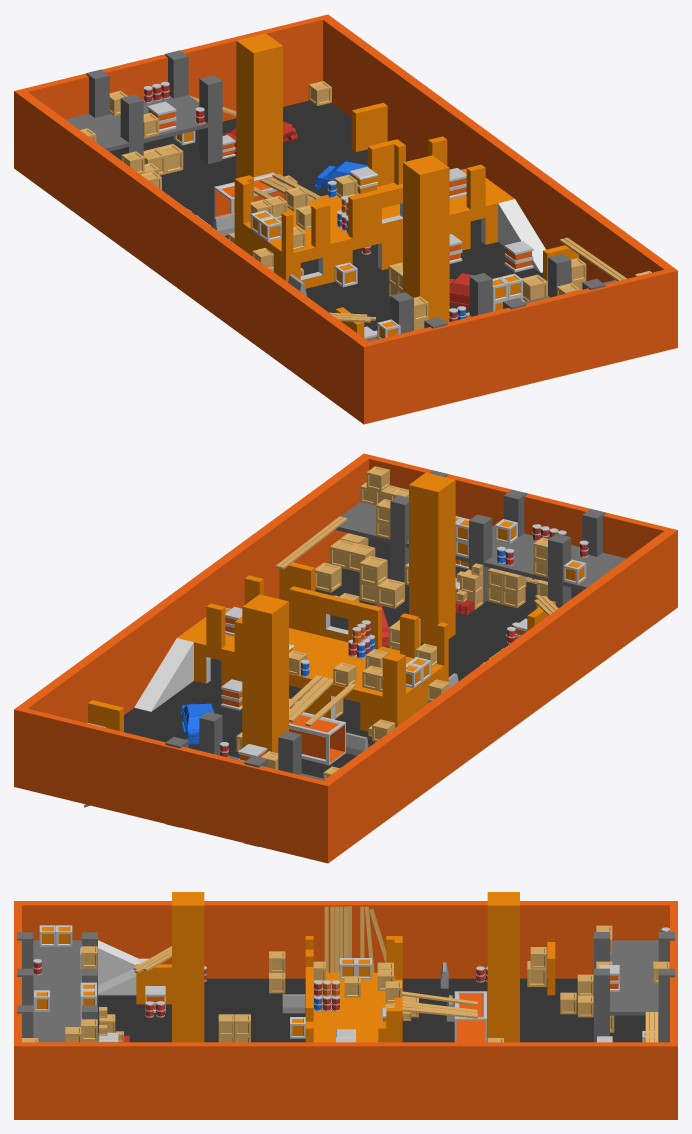
The model's file is map_visual.glb.
3 renders of one model, top to bottom at view 1: azimuth 30°, elevation 25°; view 2: azimuth 150°, elevation 25°; view 3: azimuth 270°, elevation 25°, orthographic. The views are drawn at different scales.
Parts seen in each view (by area): view 1: floors, room, Plane, Cube.016, obj.048, obj.049, Cube.077, Cube.001, obj.004, Cube.005, BigBox.004, Cube.006 (+1 smaller); view 2: floors, room, Plane, Cube.077, obj.048, obj.049, Cube.016, Cube.002, Cube.005, obj.002, obj.004, Cube.035 (+3 smaller); view 3: floors, Plane, Cube.016, Cube.077, room, obj.048, obj.049, up2, Cube.005, Cube.030, obj.024, Cube.023 (+19 smaller).
Part boxes in pixels (x1=…): floors: x1=14, y1=14, x2=677, y2=424; room: x1=234, y1=136, x2=514, y2=288; Plane: x1=110, y1=100, x2=542, y2=330; Cube.016: x1=65, y1=50, x2=222, y2=164; obj.048: x1=403, y1=155, x2=449, y2=321; obj.049: x1=236, y1=33, x2=282, y2=178; Cube.077: x1=367, y1=253, x2=616, y2=341; Cube.001: x1=498, y1=199, x2=545, y2=272; obj.004: x1=351, y1=102, x2=387, y2=151; Cube.005: x1=214, y1=172, x2=286, y2=217; BigBox.004: x1=504, y1=241, x2=533, y2=272; Cube.006: x1=449, y1=273, x2=473, y2=307; floors: x1=14, y1=453, x2=677, y2=863; room: x1=177, y1=575, x2=448, y2=731; Plane: x1=124, y1=538, x2=582, y2=778; Cube.077: x1=335, y1=470, x2=626, y2=608; obj.048: x1=409, y1=472, x2=455, y2=646; obj.049: x1=242, y1=594, x2=288, y2=752; Cube.016: x1=165, y1=712, x2=323, y2=846; Cube.002: x1=134, y1=638, x2=193, y2=711; Cube.005: x1=289, y1=709, x2=345, y2=765; obj.002: x1=279, y1=562, x2=315, y2=601; obj.004: x1=88, y1=700, x2=123, y2=731; Cube.035: x1=180, y1=703, x2=214, y2=744; floors: x1=14, y1=901, x2=677, y2=1119; Plane: x1=98, y1=978, x2=658, y2=1042; Cube.016: x1=594, y1=932, x2=674, y2=1042; Cube.077: x1=17, y1=932, x2=97, y2=1042; room: x1=305, y1=936, x2=402, y2=1042; obj.048: x1=172, y1=892, x2=204, y2=1042; obj.049: x1=487, y1=892, x2=519, y2=1042; up2: x1=98, y1=940, x2=148, y2=995; Cube.005: x1=454, y1=991, x2=487, y2=1042; Cube.030: x1=330, y1=906, x2=347, y2=972; obj.024: x1=136, y1=964, x2=171, y2=1004; Cube.023: x1=360, y1=906, x2=374, y2=972.
Bounding box in the file's own units: 8.5 × 4.35 × 16.4.
